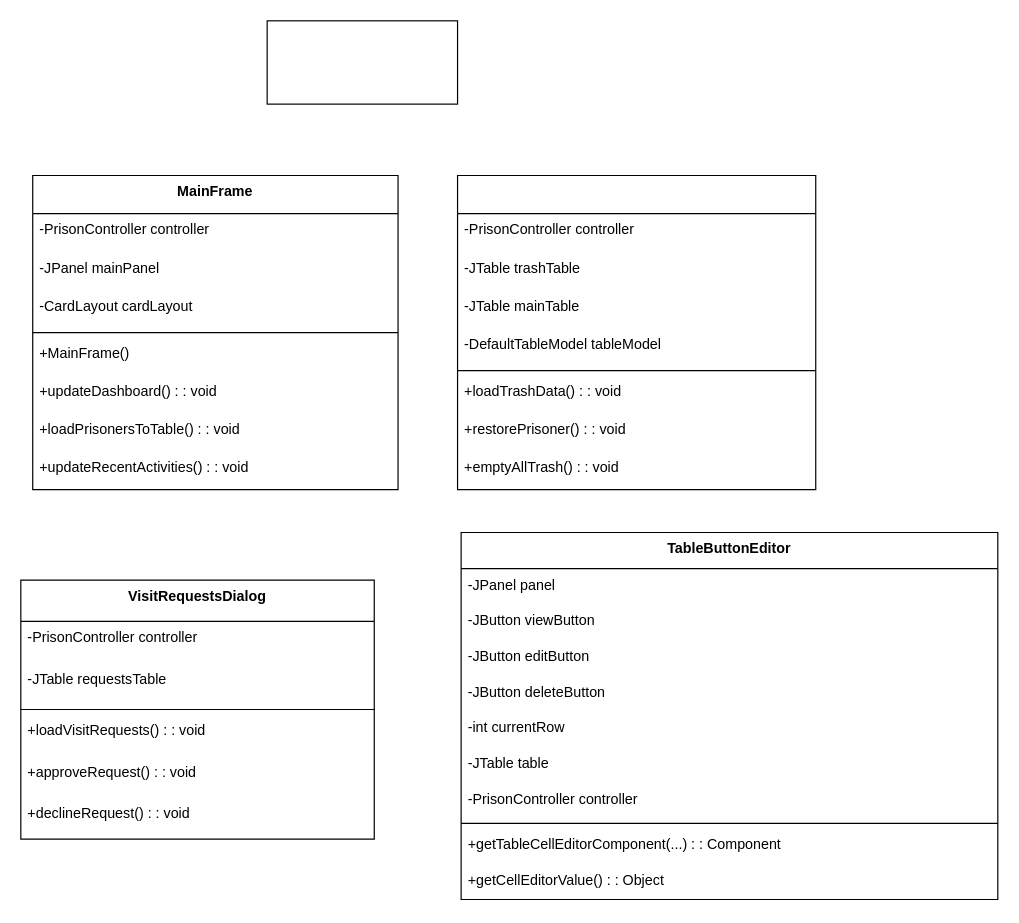
Some shapes in this 1019 by 923 pixel diagram are drawn without their labels. The box of each missing label's shape, as (x1, y1, x2, y2) in pixels:
TrashBinDialog: (456, 174, 816, 490)
View Package: (266, 20, 458, 104)
